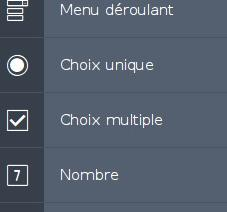checkbox: (5, 108, 28, 135)
checkbox_with_label: (0, 103, 169, 140)
